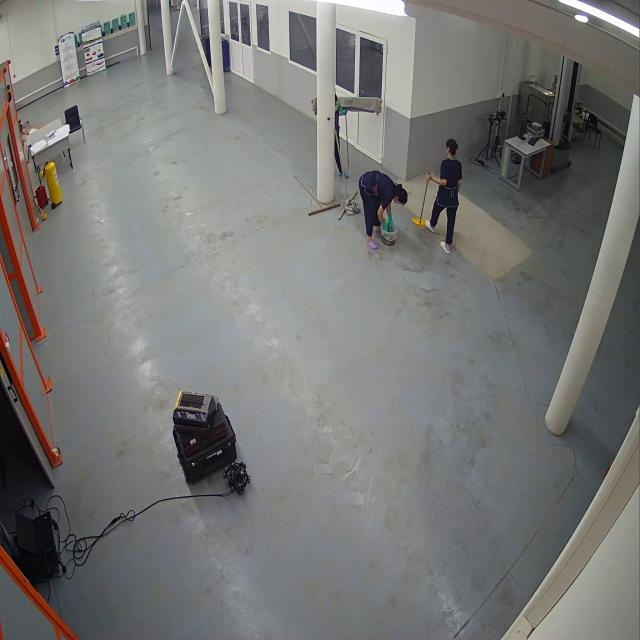NO-Hardhat: (445, 135, 462, 149), (402, 188, 408, 207)
Person: (357, 169, 408, 253), (427, 138, 461, 254), (336, 86, 350, 183)
